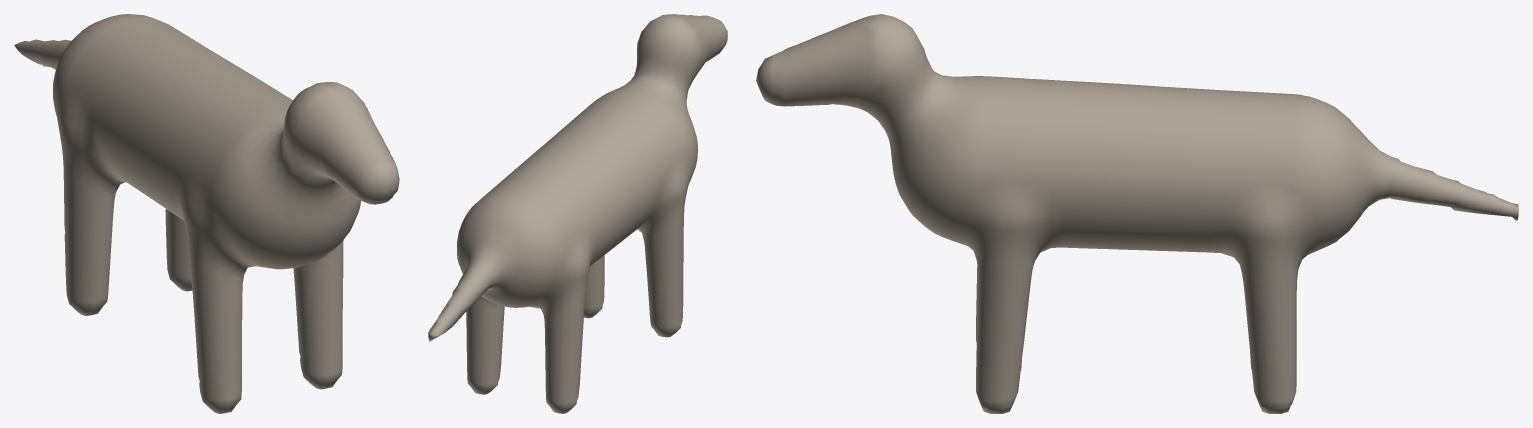
The picture shows the model from 3 angles, left to right: view 1: azimuth 30°, elevation 25°; view 2: azimuth 150°, elevation 25°; view 3: azimuth 270°, elevation 25°; orthographic projection. The views are drawn at different scales.
Visible parts, largest first — view 1: fixture_creature; view 2: fixture_creature; view 3: fixture_creature.
Part boxes in pixels (left/top/right/bottom): fixture_creature: left=14, top=14, right=399, bottom=413; fixture_creature: left=428, top=14, right=727, bottom=413; fixture_creature: left=756, top=14, right=1518, bottom=413.
Bounding box in the file's own units: 0.4521 × 1.01 × 1.89.
